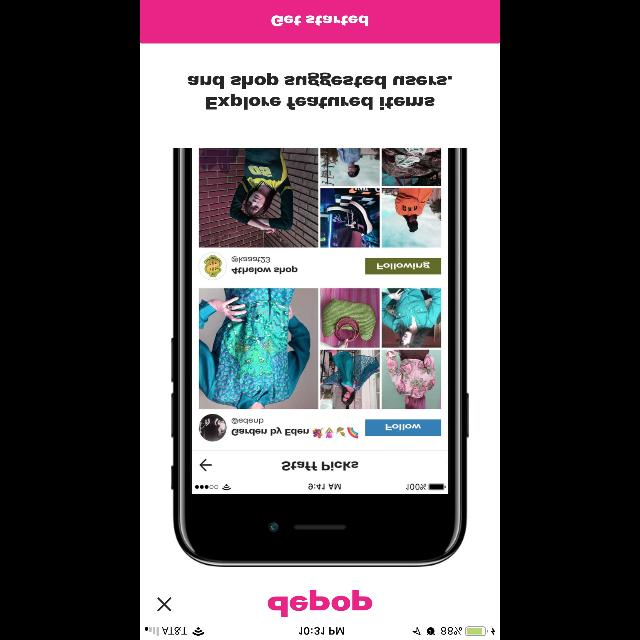icon: (158, 597, 172, 611)
image: (171, 148, 469, 566)
text: (188, 72, 452, 110), (268, 590, 372, 616)
textbutton: (140, 1, 500, 44)
uppertaskbar: (140, 626, 500, 640)
